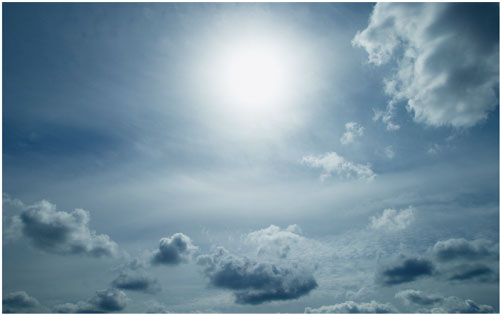sun: (194, 40, 293, 119)
